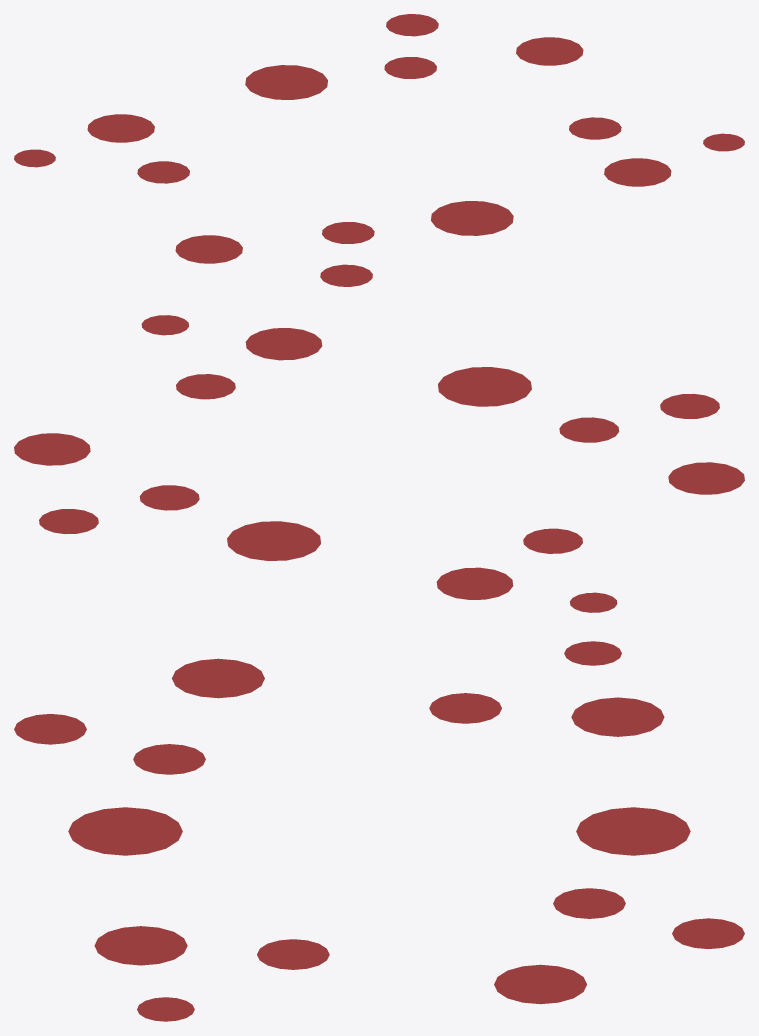
Rendered from WhiteBox_forest_mobs.fbx.
3 renders of one model, top to bottom at view 1: azimuth 30°, elevation 25°; view 2: azimuth 150°, elevation 25°; view 3: azimuth 270°, elevation 25°, orthographic. The views are drawn at different scales.
Parts seen in each view (by area): view 1: pCylinder1 (×2), pCylinder2 (×2), pCylinder5 (×2), pCylinder6 (×2), pCylinder4 (×2), pCylinder3 (×2), pCylinder7 (×2); view 2: pCylinder1 (×2), pCylinder2 (×2), pCylinder5 (×2), pCylinder3 (×2), pCylinder6 (×2), pCylinder4 (×2), pCylinder7 (×2); view 3: pCylinder1 (×2), pCylinder5 (×2), pCylinder2 (×2), pCylinder6 (×2), pCylinder3 (×2), pCylinder4 (×2), pCylinder7 (×2).
Part boxes in pixels (x1,y1,x2,y2): pCylinder1 (×2): [245, 65, 513, 235]; pCylinder2 (×2): [175, 37, 583, 263]; pCylinder5 (×2): [87, 114, 671, 186]; pCylinder6 (×2): [137, 117, 621, 183]; pCylinder4 (×2): [320, 14, 438, 286]; pCylinder3 (×2): [322, 57, 436, 243]; pCylinder7 (×2): [14, 133, 744, 167]; pCylinder1 (×2): [227, 367, 531, 560]; pCylinder2 (×2): [14, 433, 744, 494]; pCylinder5 (×2): [245, 328, 513, 599]; pCylinder3 (×2): [139, 417, 619, 510]; pCylinder6 (×2): [176, 374, 582, 553]; pCylinder4 (×2): [39, 393, 719, 534]; pCylinder7 (×2): [141, 315, 617, 612]; pCylinder1 (×2): [68, 807, 690, 855]; pCylinder5 (×2): [94, 697, 664, 965]; pCylinder2 (×2): [172, 658, 586, 1004]; pCylinder6 (×2): [257, 693, 501, 969]; pCylinder3 (×2): [133, 744, 625, 918]; pCylinder4 (×2): [14, 714, 744, 948]; pCylinder7 (×2): [137, 641, 621, 1021].
Size of the model in its own units: 115 by 1.78e-14 by 93.75.
